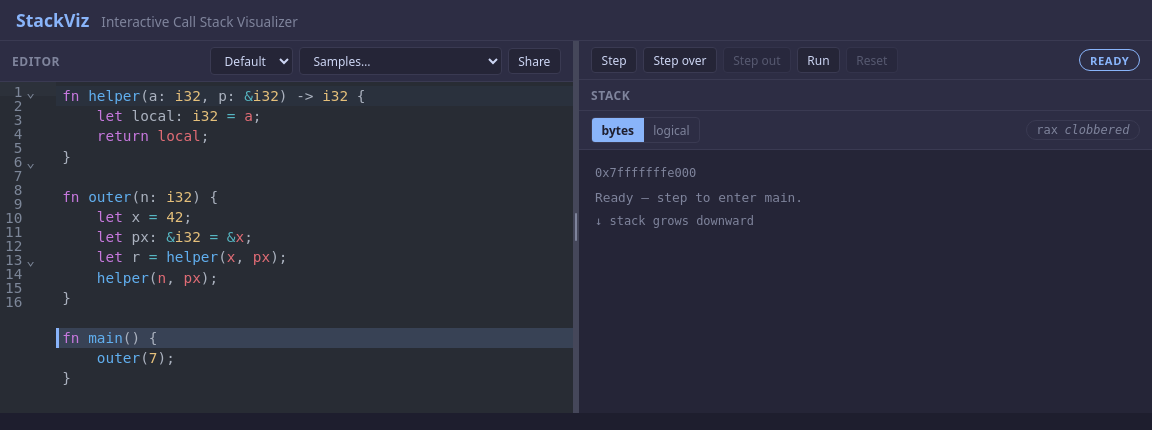
Scenario: samples and sharing › share encodes the program into the URL and copies the link
This screenshot has width=1152, height=430.
Click the button "Share": click(534, 61) [508,48,561,74]
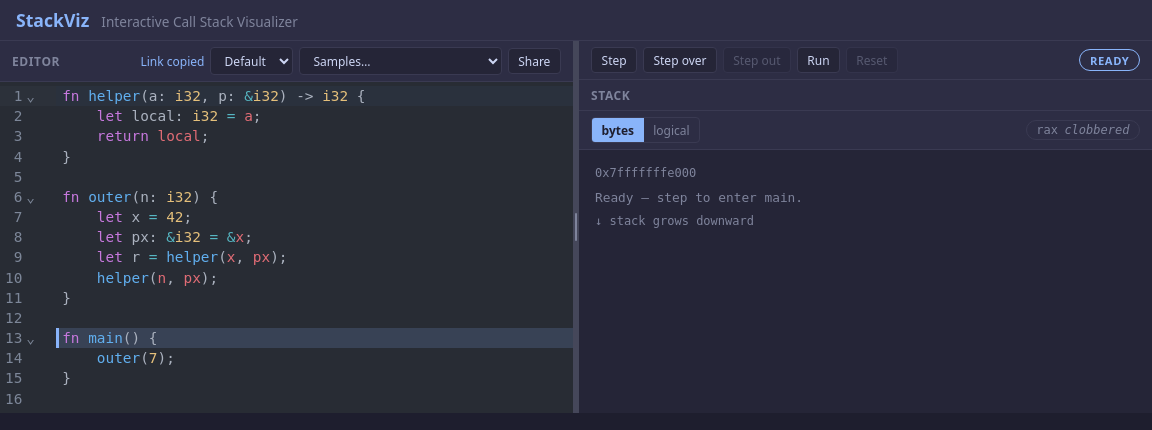
Expected: the text "Link copied" is shown, [140,53,204,70]
